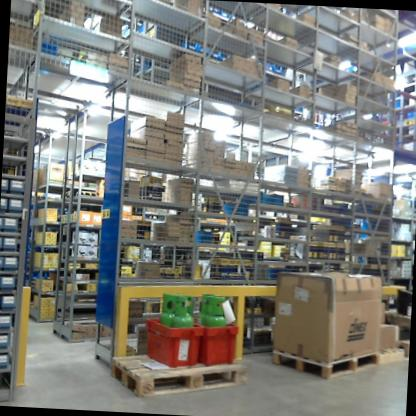pallet: (109, 340, 255, 405), (260, 341, 385, 383), (366, 344, 407, 366)
small_load_carrier: (138, 313, 205, 371), (197, 317, 242, 368)
